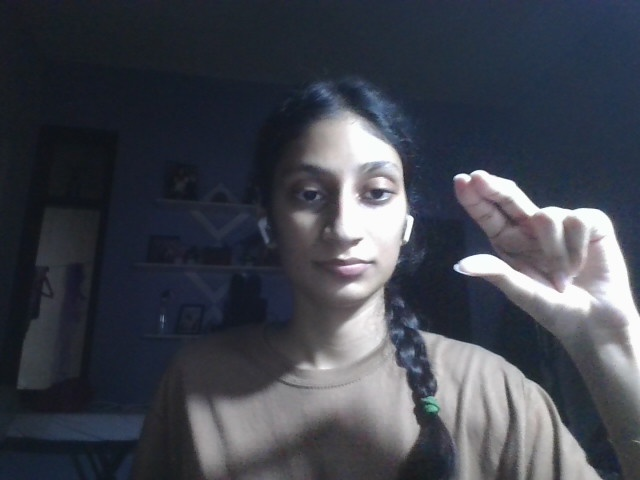no: (451, 170, 640, 337)
